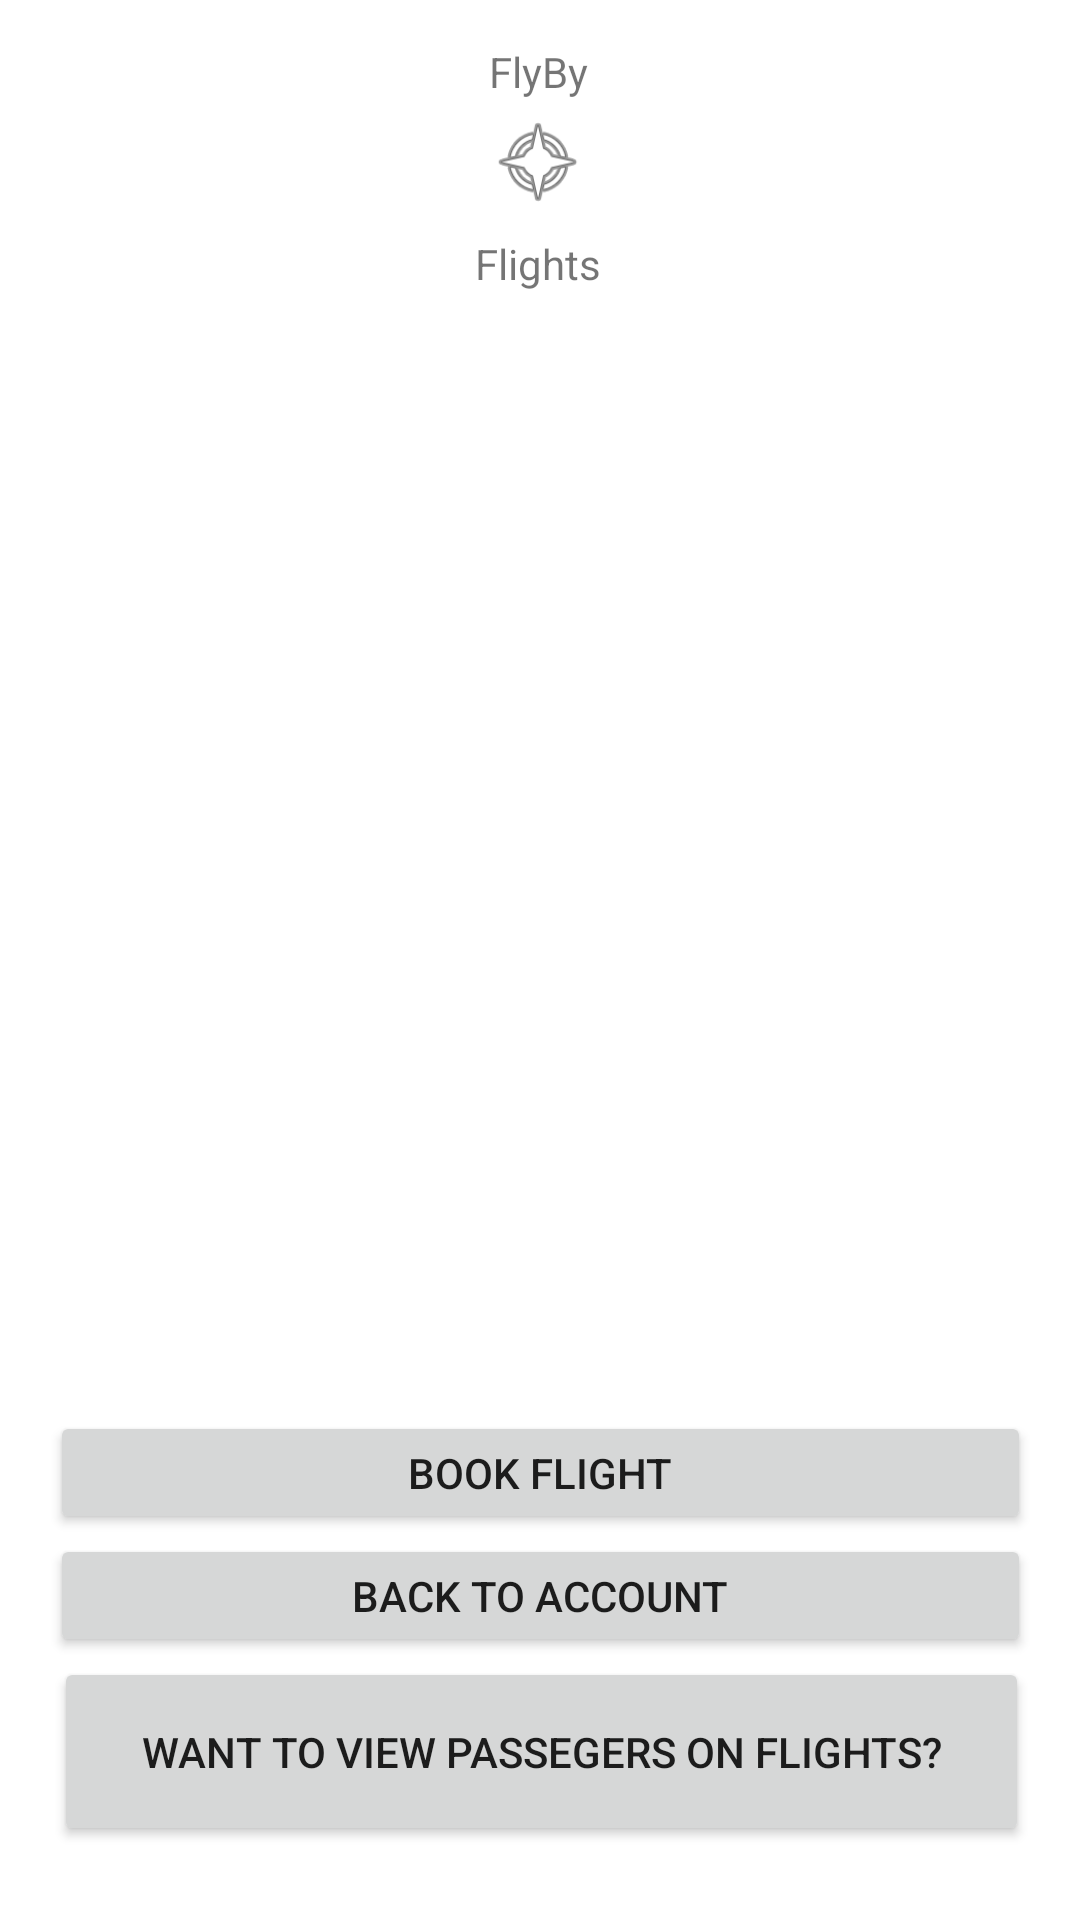

Point at icon controls on the screen. Image size 1080px×1920px, points as (x,y).
compass: (538,162)
